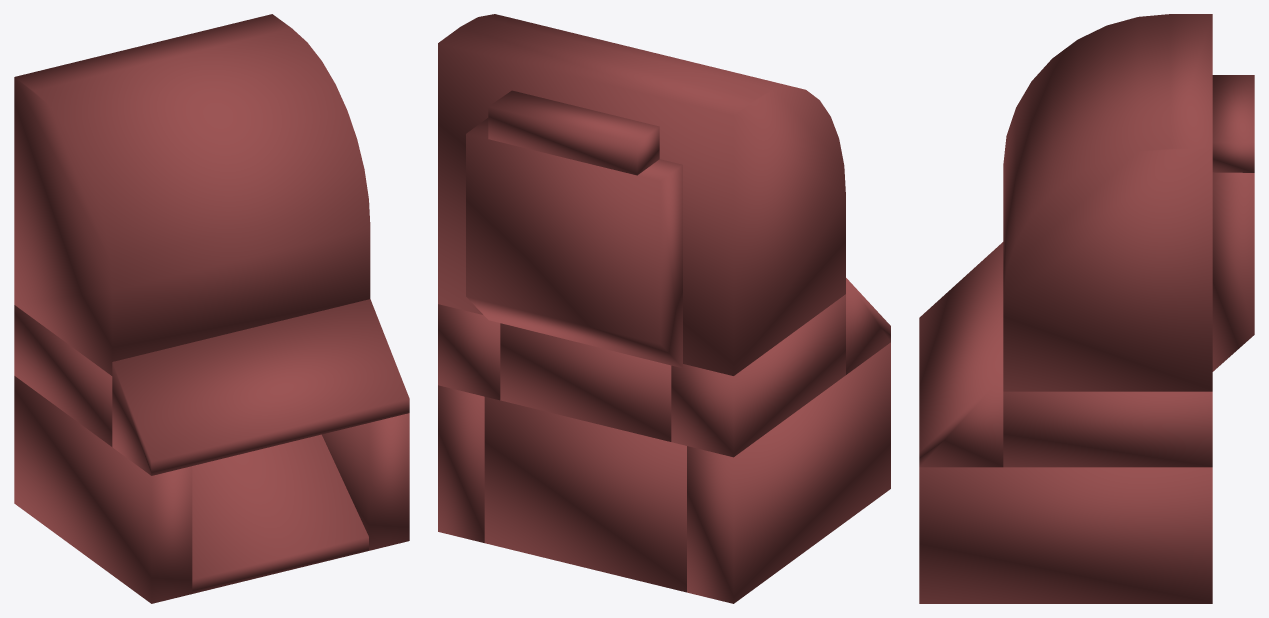
File: GunShop_Coll.FBX
3 renders of one model, left to right at view 1: azimuth 30°, elevation 25°; view 2: azimuth 150°, elevation 25°; view 3: azimuth 270°, elevation 25°, orthographic. The views are drawn at different scales.
Visible parts, largest first — view 1: GunShop_Coll_02_Mesh, GunShop_Coll_05_Mesh, GunShop_Coll_08_Box, GunShop_Coll_03_Mesh, GunShop_Coll_04_Box, GunShop_Coll_09_Box; view 2: GunShop_Coll_02_Mesh, GunShop_Coll_01_Mesh, GunShop_Coll_08_Box, GunShop_Coll_03_Mesh, GunShop_Coll_09_Box, GunShop_Coll_07_Box, GunShop_Coll_00_Box, GunShop_Coll_04_Box, GunShop_Coll_06_Box, GunShop_Coll_05_Mesh; view 3: GunShop_Coll_02_Mesh, GunShop_Coll_04_Box, GunShop_Coll_06_Box, GunShop_Coll_05_Mesh, GunShop_Coll_01_Mesh, GunShop_Coll_00_Box.
Part boxes in pixels (x1,y1,x2,y2): GunShop_Coll_02_Mesh: (14, 14, 370, 375); GunShop_Coll_05_Mesh: (112, 299, 409, 475); GunShop_Coll_08_Box: (14, 376, 192, 603); GunShop_Coll_03_Mesh: (192, 434, 368, 593); GunShop_Coll_04_Box: (322, 413, 409, 550); GunShop_Coll_09_Box: (14, 305, 112, 446); GunShop_Coll_02_Mesh: (438, 14, 845, 375); GunShop_Coll_01_Mesh: (466, 118, 682, 368); GunShop_Coll_08_Box: (687, 342, 890, 603); GunShop_Coll_03_Mesh: (484, 397, 686, 592); GunShop_Coll_09_Box: (671, 294, 845, 457); GunShop_Coll_07_Box: (500, 323, 671, 441); GunShop_Coll_00_Box: (488, 90, 659, 175); GunShop_Coll_04_Box: (438, 385, 484, 542); GunShop_Coll_06_Box: (438, 304, 500, 400); GunShop_Coll_05_Mesh: (846, 278, 890, 374); GunShop_Coll_02_Mesh: (1003, 14, 1212, 391); GunShop_Coll_04_Box: (919, 467, 1212, 603); GunShop_Coll_06_Box: (1003, 391, 1212, 467); GunShop_Coll_05_Mesh: (919, 242, 1003, 467); GunShop_Coll_01_Mesh: (1212, 172, 1254, 371); GunShop_Coll_00_Box: (1212, 75, 1254, 172).
Size of the model in its own units: 190 by 300 by 200.
